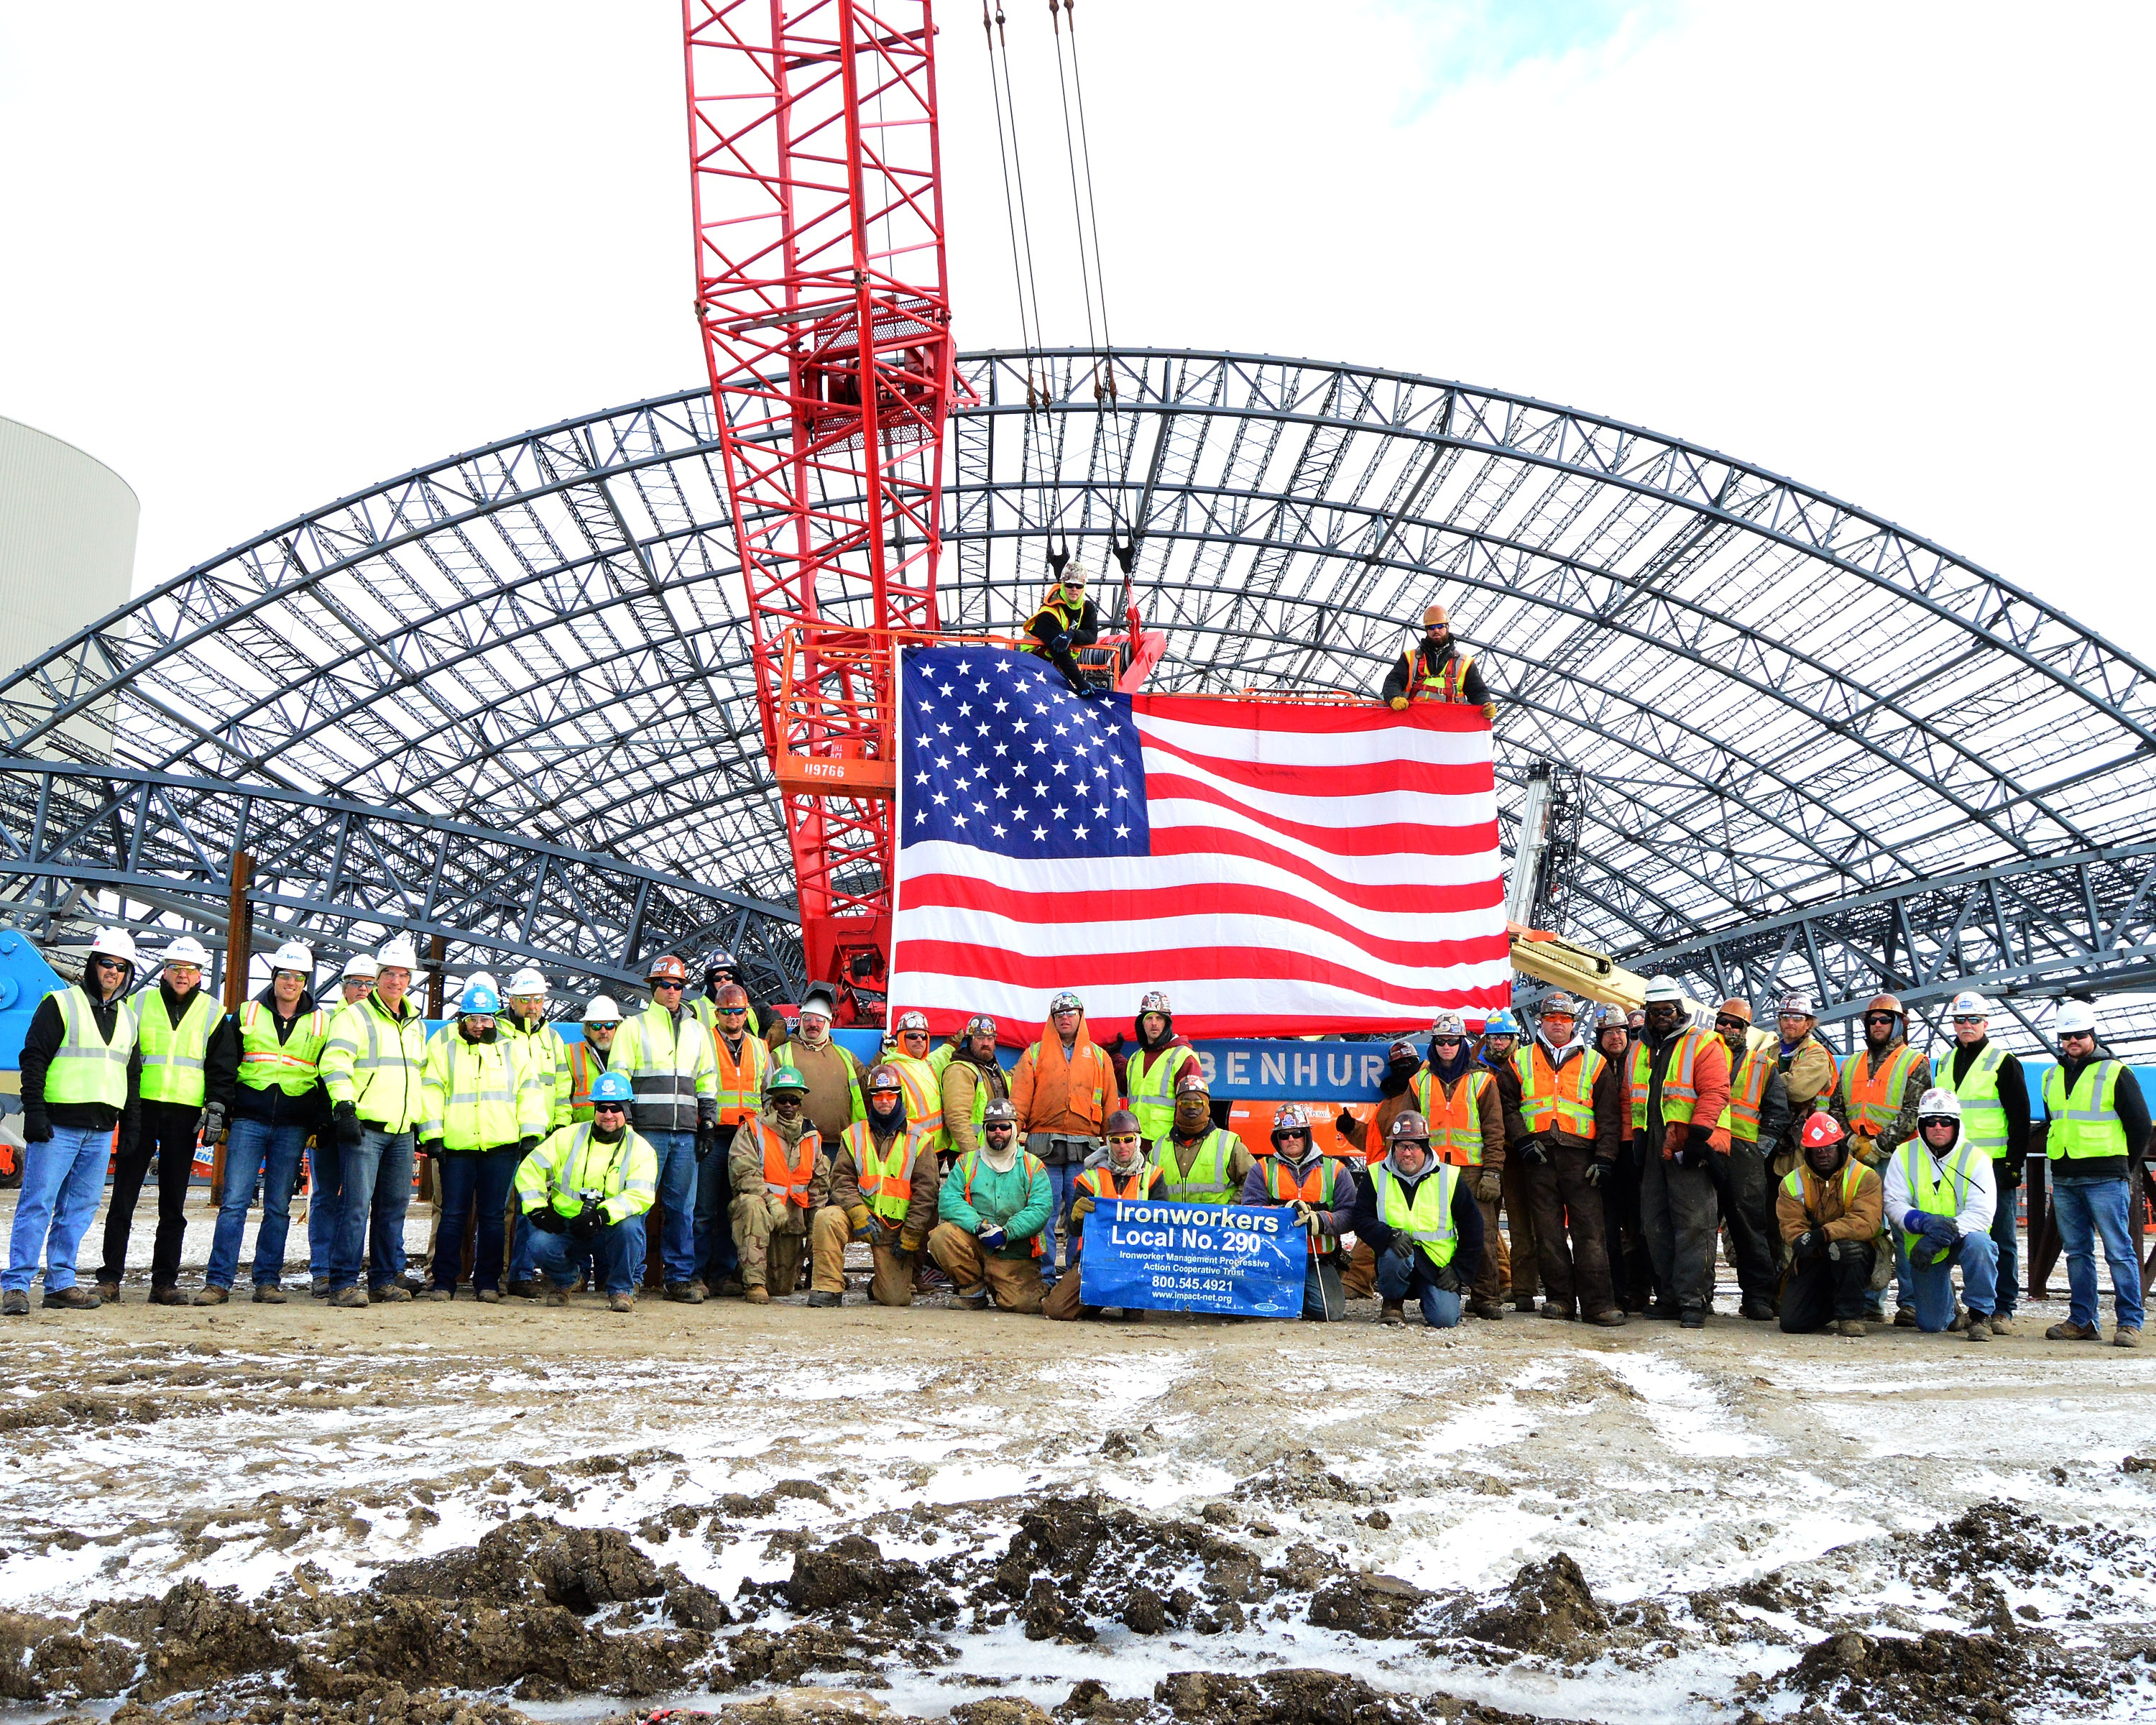blue: (586, 1072, 635, 1130), (459, 987, 496, 1035), (1485, 1007, 1517, 1053), (702, 949, 737, 987)
red: (1800, 1111, 1844, 1174), (1390, 1111, 1429, 1174), (980, 1097, 1019, 1153), (648, 952, 686, 1005), (1595, 1000, 1632, 1054), (1047, 989, 1084, 1040), (866, 1065, 903, 1116), (1274, 1104, 1309, 1156), (1105, 1111, 1140, 1162), (1174, 1074, 1207, 1125), (1542, 991, 1575, 1042), (1433, 1012, 1464, 1061), (715, 984, 748, 1030), (1140, 989, 1170, 1040), (898, 1010, 929, 1056), (966, 1016, 998, 1060), (1389, 1040, 1420, 1074)
white: (79, 922, 137, 991), (271, 940, 315, 1002), (2054, 996, 2098, 1056), (373, 940, 419, 996), (1917, 1086, 1959, 1146), (165, 936, 208, 993), (507, 968, 547, 1019), (584, 995, 618, 1049), (1950, 993, 1987, 1042), (1646, 977, 1681, 1028), (341, 952, 377, 1002), (797, 996, 831, 1040), (463, 972, 502, 1002)
yellow: (1776, 991, 1815, 1042), (1714, 996, 1755, 1042), (1866, 993, 1903, 1042), (1422, 604, 1450, 642), (1061, 562, 1086, 600)
